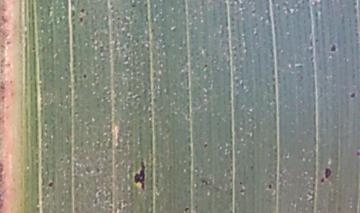tarspot: (131, 156, 151, 193), (328, 41, 340, 56), (324, 165, 334, 180), (347, 89, 358, 100), (80, 70, 90, 82), (44, 179, 56, 189), (76, 15, 87, 24), (77, 5, 88, 14), (201, 60, 209, 72), (183, 203, 192, 213), (200, 141, 210, 149), (266, 181, 274, 191), (317, 176, 324, 186), (354, 148, 360, 159), (236, 179, 245, 186)
